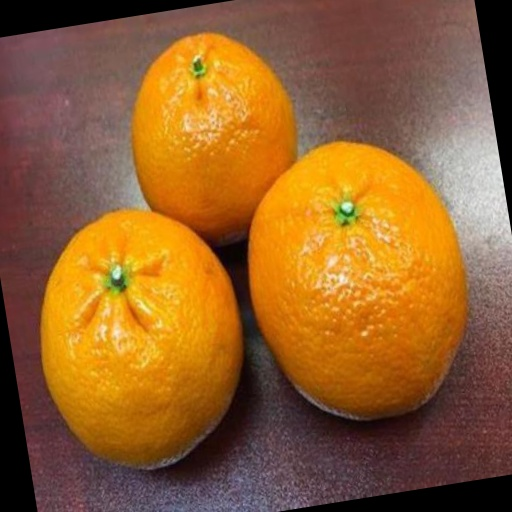fruit: (106, 133, 405, 500), (50, 93, 242, 310), (11, 222, 112, 512)
